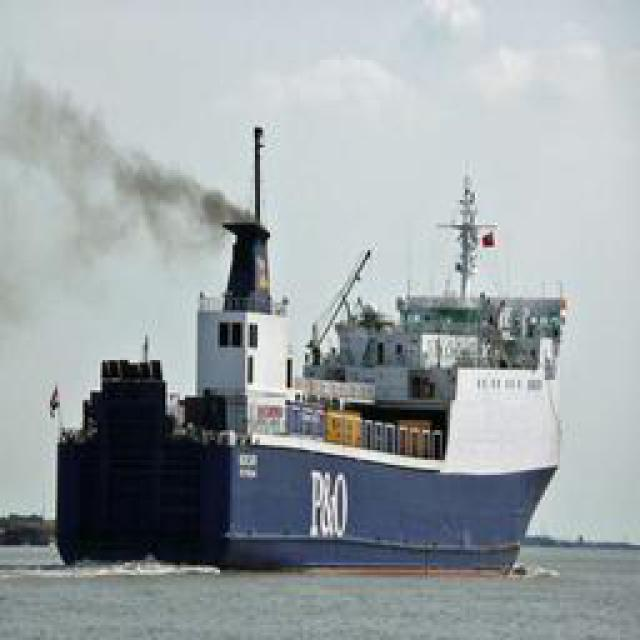Ship: (87, 133, 565, 578)
